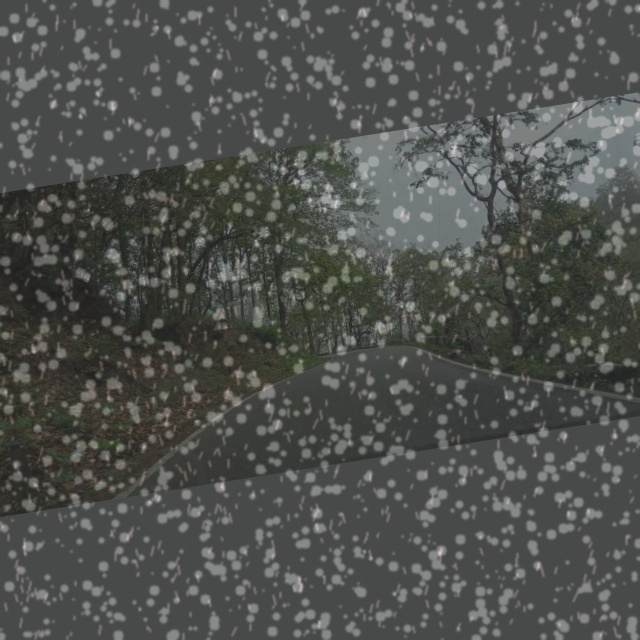Left_Hand_Curve: (207, 304, 237, 338)
